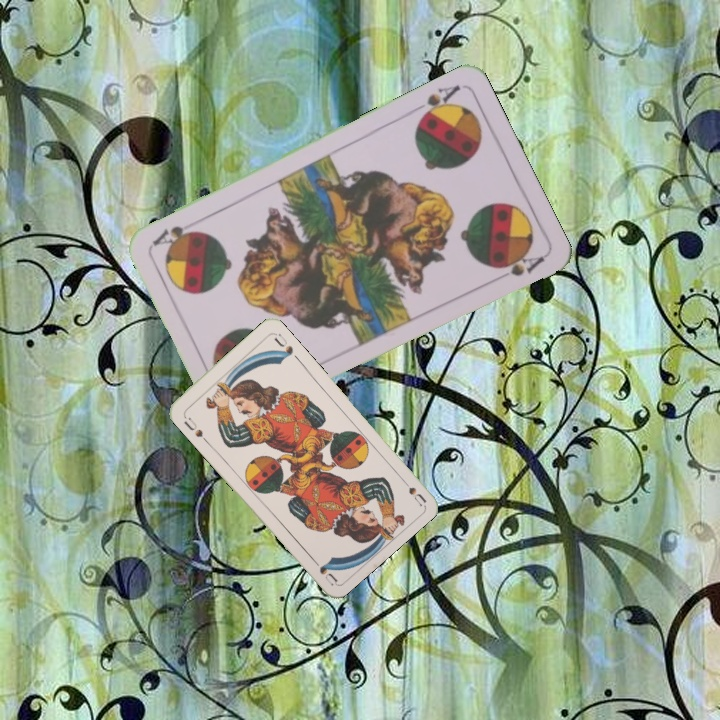SA: (414, 80, 463, 124)
SU: (395, 472, 428, 507), (179, 411, 210, 445)
